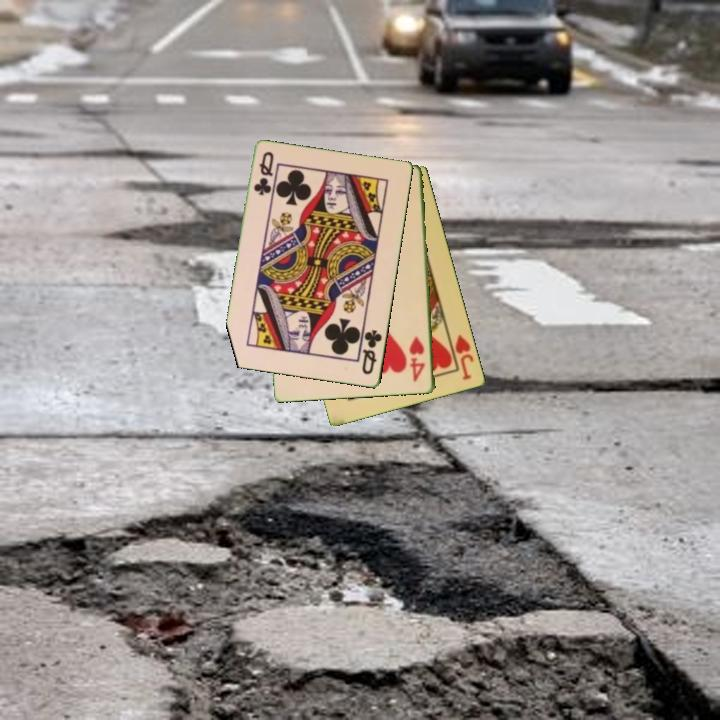4h: (407, 333, 428, 385)
Jh: (445, 330, 477, 383)
Qc: (250, 148, 277, 199), (359, 326, 385, 378)
